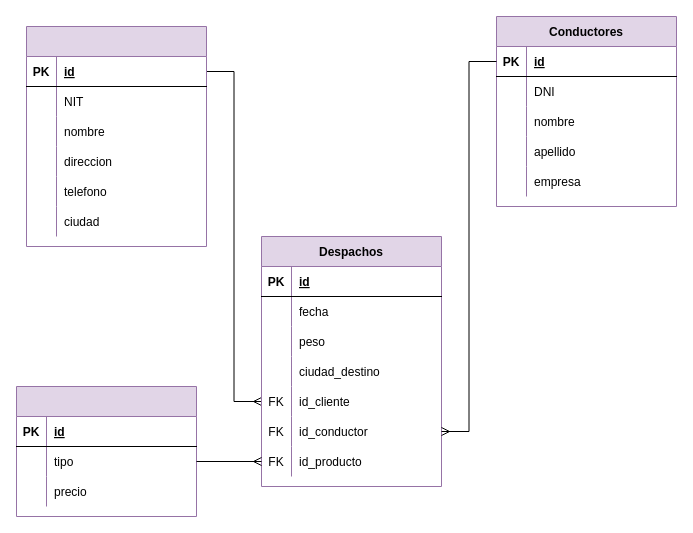
This 693x533 diagram has some shape labels left out. Each missing label, with the box of its shape:
Clientes: (26, 26, 206, 246)
Productos: (16, 386, 196, 516)
